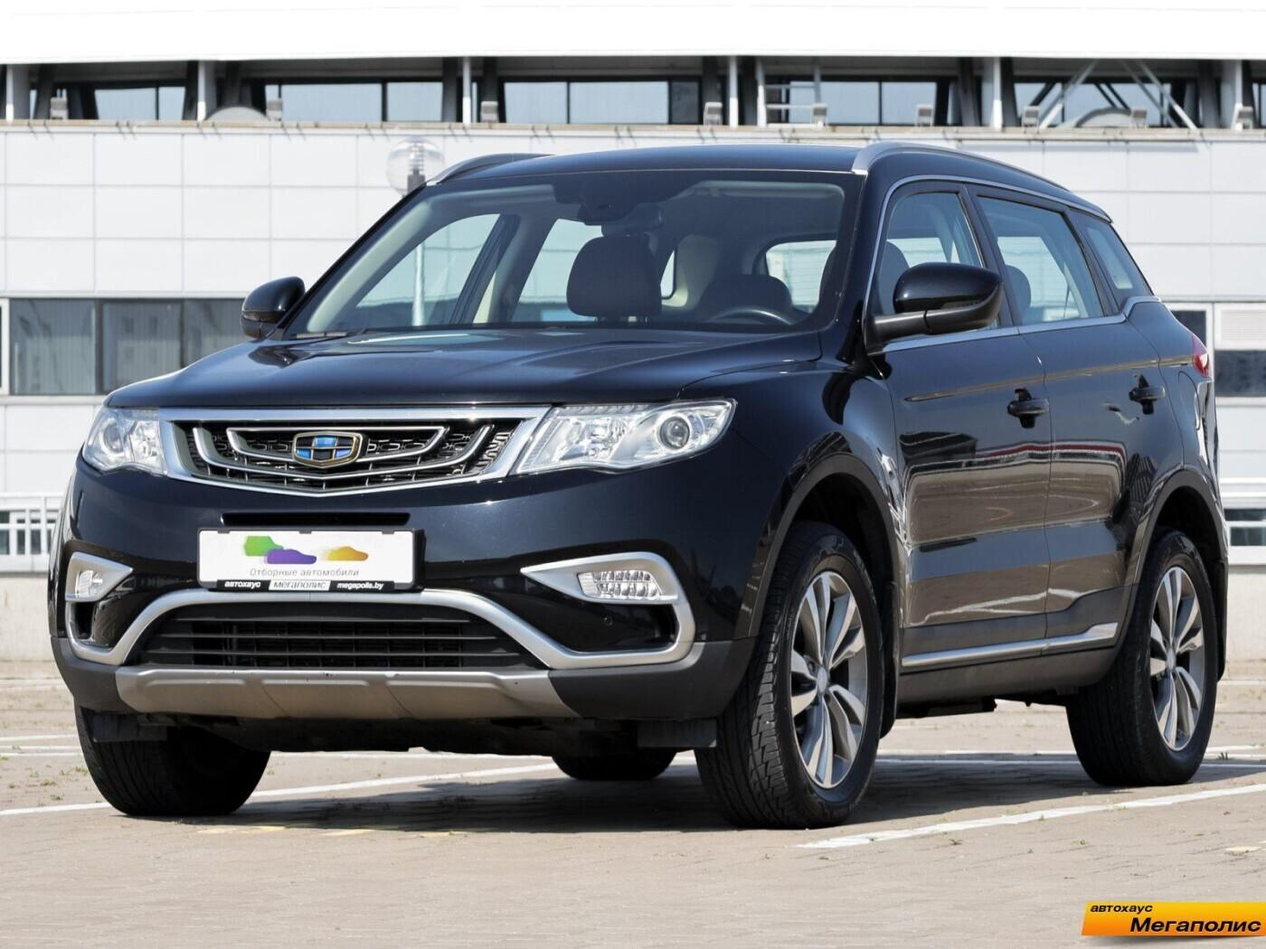Atlas_2016-2023: (45, 141, 1232, 824)
